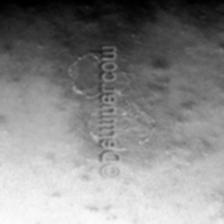Non-Cancerous Skin Condition: (124, 0, 224, 224), (29, 0, 92, 169)
